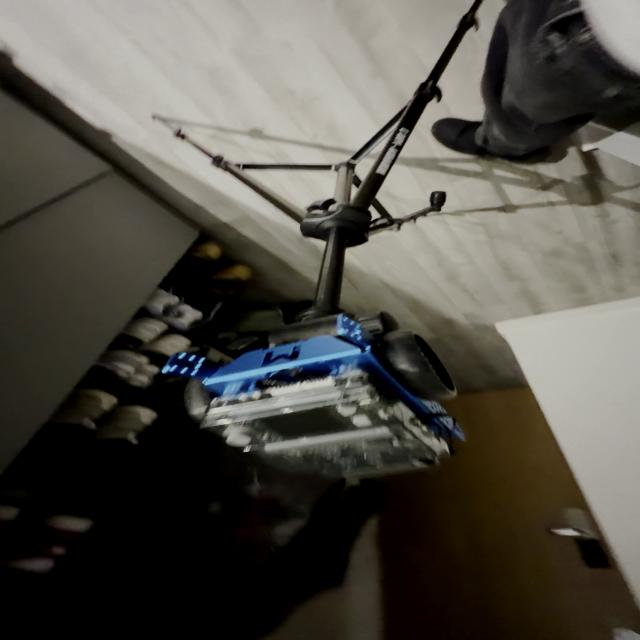mbot-detection: (150, 310, 476, 491)
